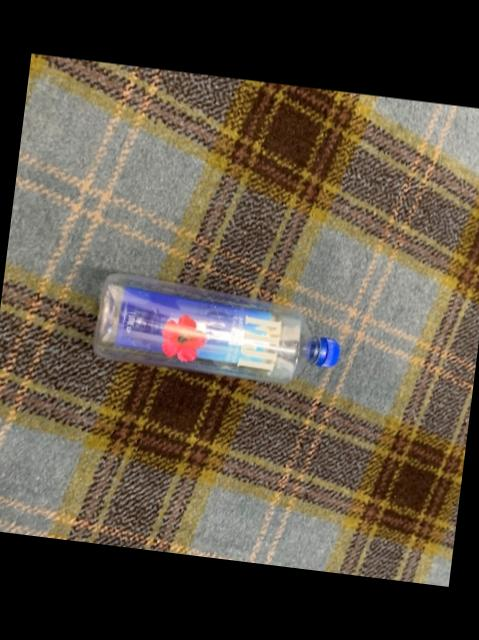plastic: (93, 272, 339, 381)
